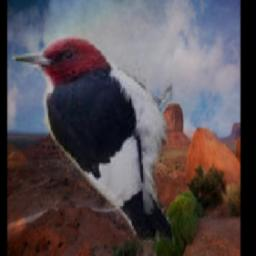Woodpecker: (12, 34, 172, 242)
